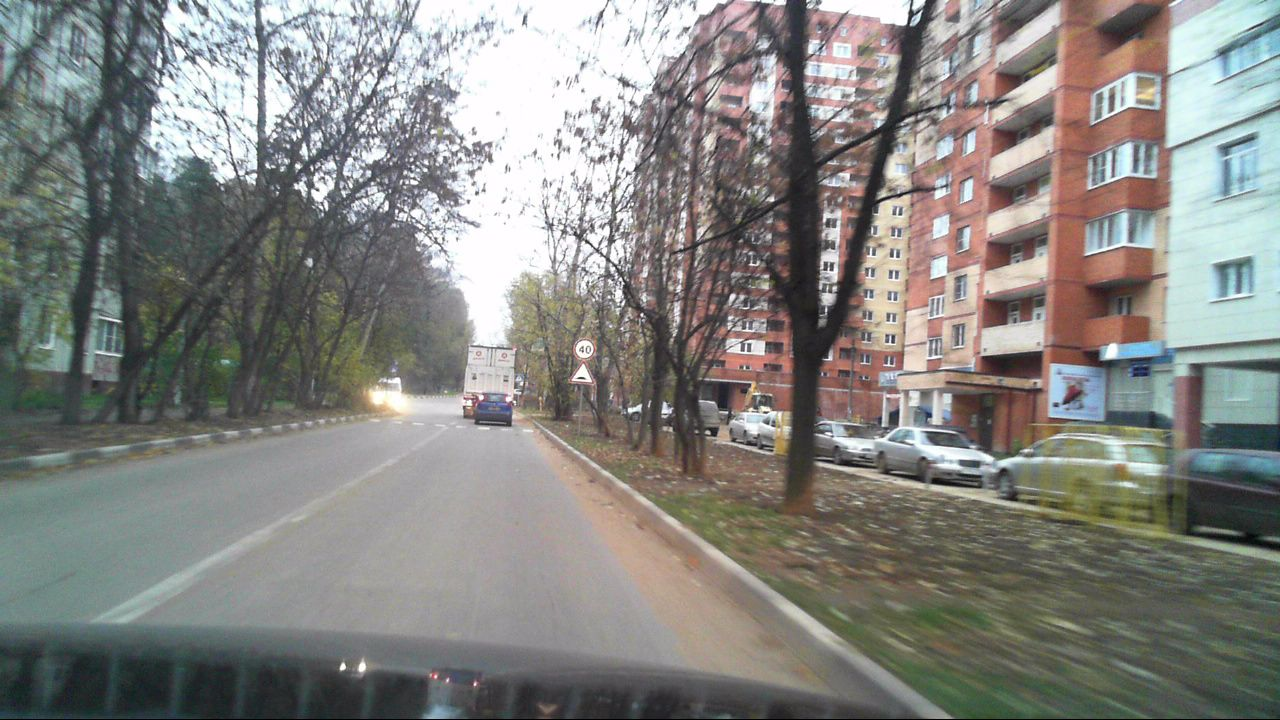speed_warning_40: (573, 338, 595, 361)
